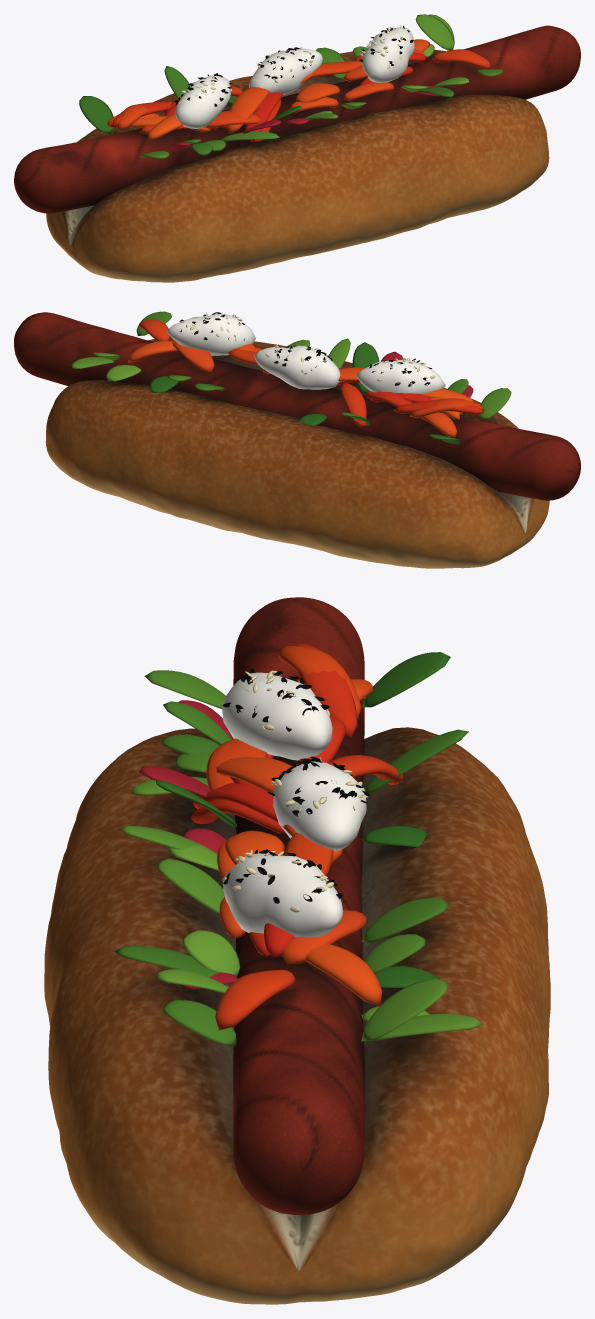
File: snugdog-hotdog.glb
The picture shows the model from 3 angles, top to bottom: view 1: azimuth 30°, elevation 25°; view 2: azimuth 150°, elevation 25°; view 3: azimuth 270°, elevation 25°; orthographic projection. The views are drawn at different scales.
Parts seen in each view (by area): view 1: Bun, Sausage, Toppings; view 2: Bun, Sausage, Toppings; view 3: Bun, Toppings, Sausage.
Part boxes in pixels (box(x1,y1,x2,y2)): Bun: box(46, 49, 549, 282); Sausage: box(14, 25, 580, 213); Toppings: box(79, 14, 503, 158); Bun: box(45, 336, 549, 568); Sausage: box(14, 312, 580, 500); Toppings: box(71, 311, 511, 444); Bun: box(44, 727, 550, 1304); Toppings: box(114, 643, 483, 1045); Sausage: box(233, 597, 364, 1214).
Bounding box in the file's own units: 2.06 × 0.6239 × 0.8106.
3 materials, 2 textured.
